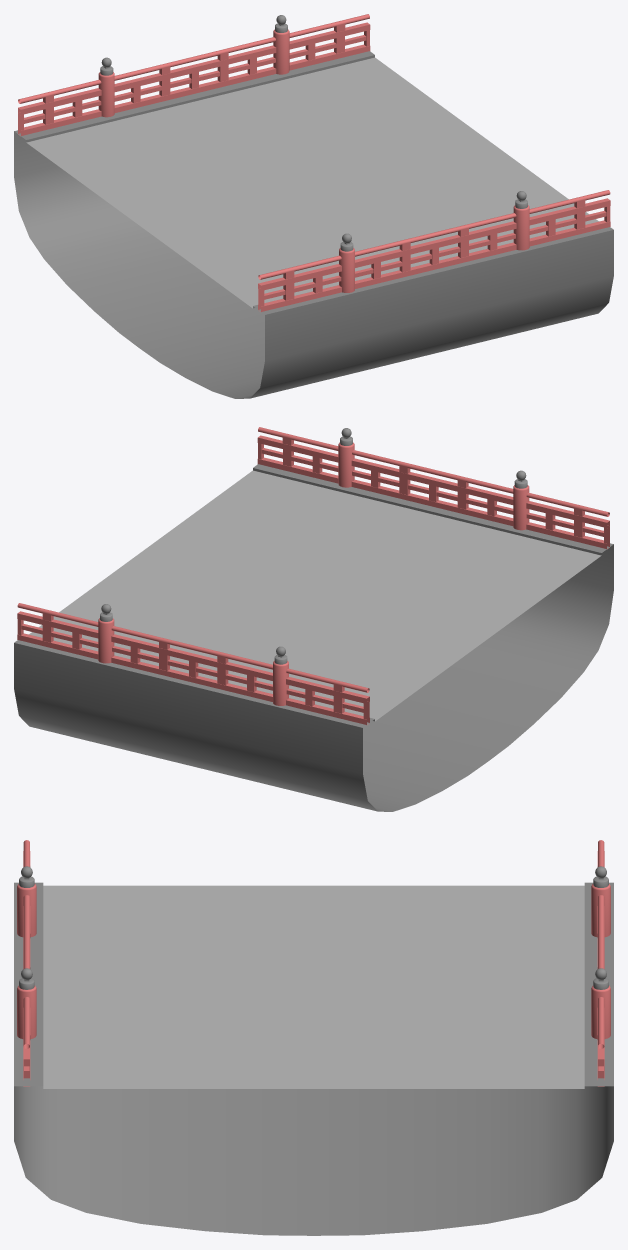
Rendered from Japan_Road_Single1.FBX.
3 renders of one model, top to bottom at view 1: azimuth 30°, elevation 25°; view 2: azimuth 150°, elevation 25°; view 3: azimuth 270°, elevation 25°, orthographic. The views are drawn at different scales.
Parts seen in each view (by area): view 1: BASE_LEVEL008; view 2: BASE_LEVEL008; view 3: BASE_LEVEL008.
Part boxes in pixels (left/top/right/bottom): BASE_LEVEL008: left=14, top=14, right=613, bottom=398; BASE_LEVEL008: left=14, top=427, right=613, bottom=811; BASE_LEVEL008: left=14, top=840, right=613, bottom=1235.
Bounding box in the file's own units: 452 × 224 × 562.
